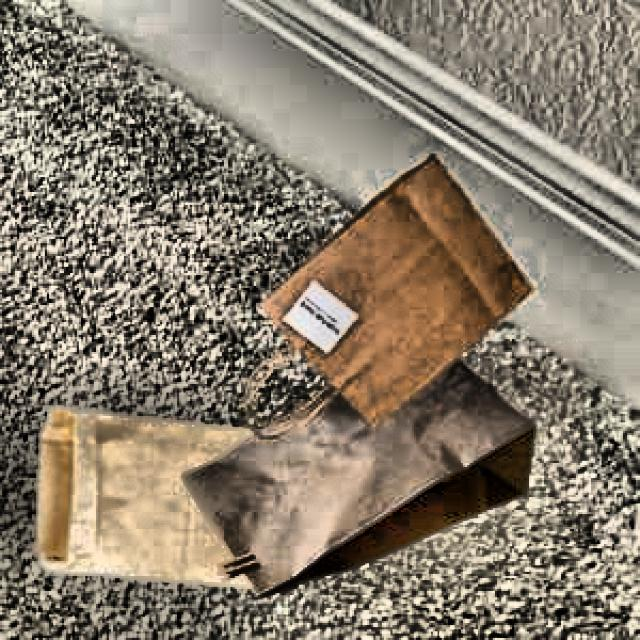Paper-bag: (180, 312, 547, 602), (244, 138, 538, 424), (28, 401, 293, 619)
